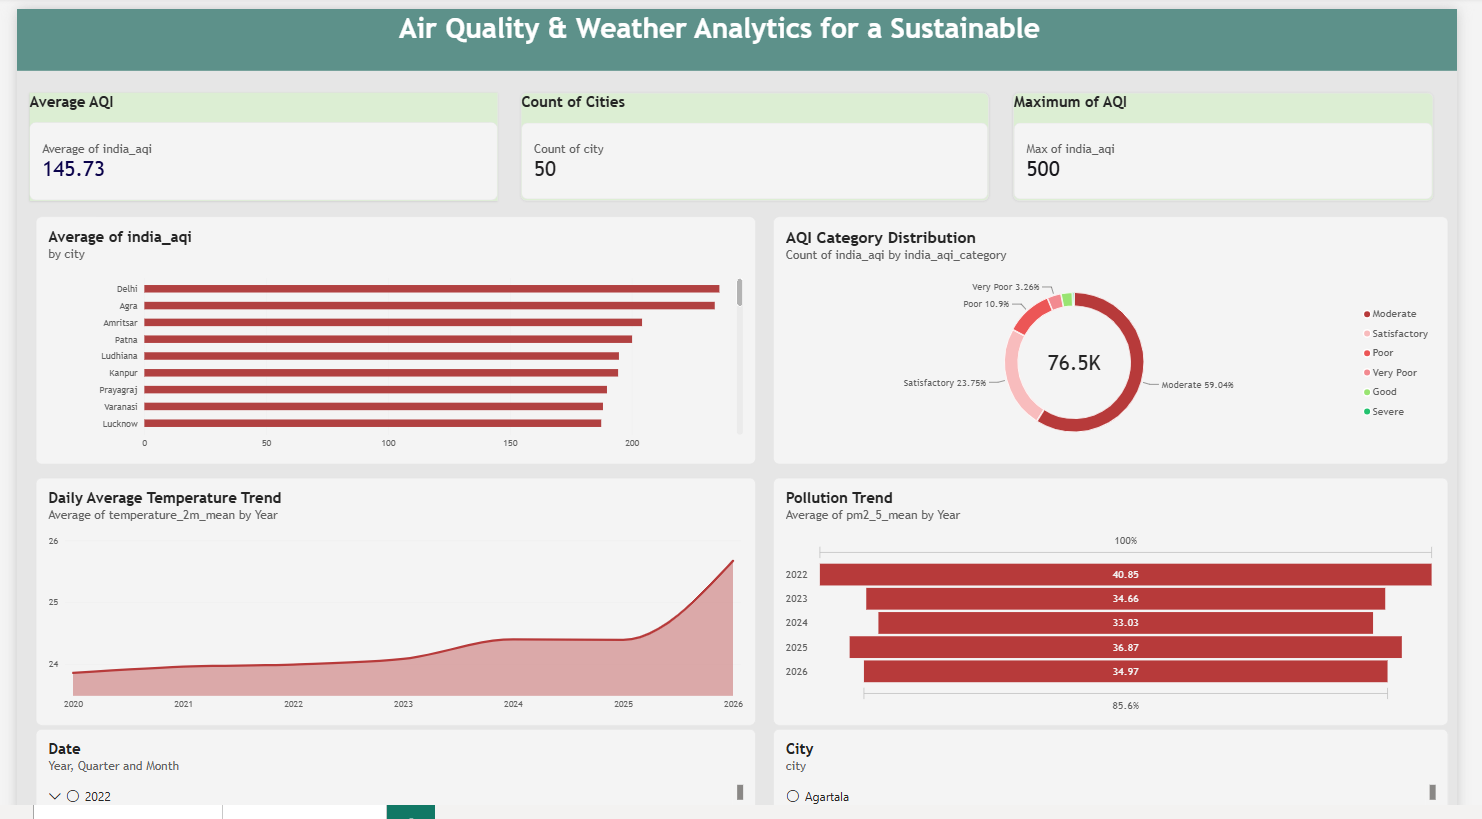

This screenshot's page, from the dashboard's own definition file:
{"tool":"powerbi","page":{"name":"Air Quality overview","canvas":[1920,1080],"ordinal":0},"visuals":[{"type":"textbox","box":[0,0,1920,82.5],"z":0},{"type":"cardVisual","title":"Average AQI","fields":{"Data":["Avg(air_quality_daily.india_aqi)"]},"box":[16,112,624,144],"z":1},{"type":"cardVisual","title":"Count of Cities","fields":{"Data":["Count(cities.city)"]},"box":[672,112,624,144],"z":2},{"type":"cardVisual","title":"                  Maximum of AQI","fields":{"Data":["Max(air_quality_daily.india_aqi)"]},"box":[1328,112,560,144],"z":3},{"type":"clusteredBarChart","fields":{"Category":["cities.city"],"Y":["Avg(air_quality_daily.india_aqi)"]},"box":[25,276.7,960,330],"z":4},{"type":"donutChart","title":"AQI Category Distribution","fields":{"Category":["air_quality_daily.india_aqi_category"],"Y":["CountNonNull(air_quality_daily.india_aqi)"]},"box":[1008.3,276.7,900,330],"z":5},{"type":"funnel","title":"Pollution Trend","fields":{"Category":["air_quality_daily.date.Variation.Date Hierarchy.Year","air_quality_daily.date.Variation.Date Hierarchy.Quarter","air_quality_daily.date.Variation.Date Hierarchy.Month","air_quality_daily.date.Variation.Date Hierarchy.Day"],"Y":["Avg(air_quality_daily.pm2_5_mean)"]},"box":[1008.3,625,900,330],"z":6},{"type":"areaChart","title":"Daily Average Temperature Trend","fields":{"Category":["weather_daily.date.Variation.Date Hierarchy.Year","weather_daily.date.Variation.Date Hierarchy.Quarter","weather_daily.date.Variation.Date Hierarchy.Month","weather_daily.date.Variation.Date Hierarchy.Day"],"Y":["Avg(weather_daily.temperature_2m_mean)"]},"box":[25,625,960,330],"z":7},{"type":"listSlicer","title":"City","fields":{"Values":["cities.city"]},"box":[1008.3,960,900,120],"z":9},{"type":"listSlicer","title":"Date","fields":{"Values":["air_quality_daily.date.Variation.Date Hierarchy.Year","air_quality_daily.date.Variation.Date Hierarchy.Quarter","air_quality_daily.date.Variation.Date Hierarchy.Month","air_quality_daily.date.Variation.Date Hierarchy.Day"]},"box":[25,960,960,120],"z":10}]}

Visuals, with their boxes in screenshot pixels (x1, y1, x2, y2), scaled from the page's 1920x1080 canvas onto the 1482x819 screenshot:
textbox: Rect(0, 0, 1481, 63)
"Average AQI" cardVisual: Rect(12, 85, 494, 194)
"Count of Cities" cardVisual: Rect(519, 85, 1000, 194)
"                  Maximum of AQI" cardVisual: Rect(1025, 85, 1457, 194)
clusteredBarChart - cities.city x Avg(air_quality_daily.india_aqi): Rect(19, 210, 760, 460)
"AQI Category Distribution" donutChart: Rect(778, 210, 1473, 460)
"Pollution Trend" funnel: Rect(778, 474, 1473, 724)
"Daily Average Temperature Trend" areaChart: Rect(19, 474, 760, 724)
"City" listSlicer: Rect(778, 728, 1473, 818)
"Date" listSlicer: Rect(19, 728, 760, 818)
